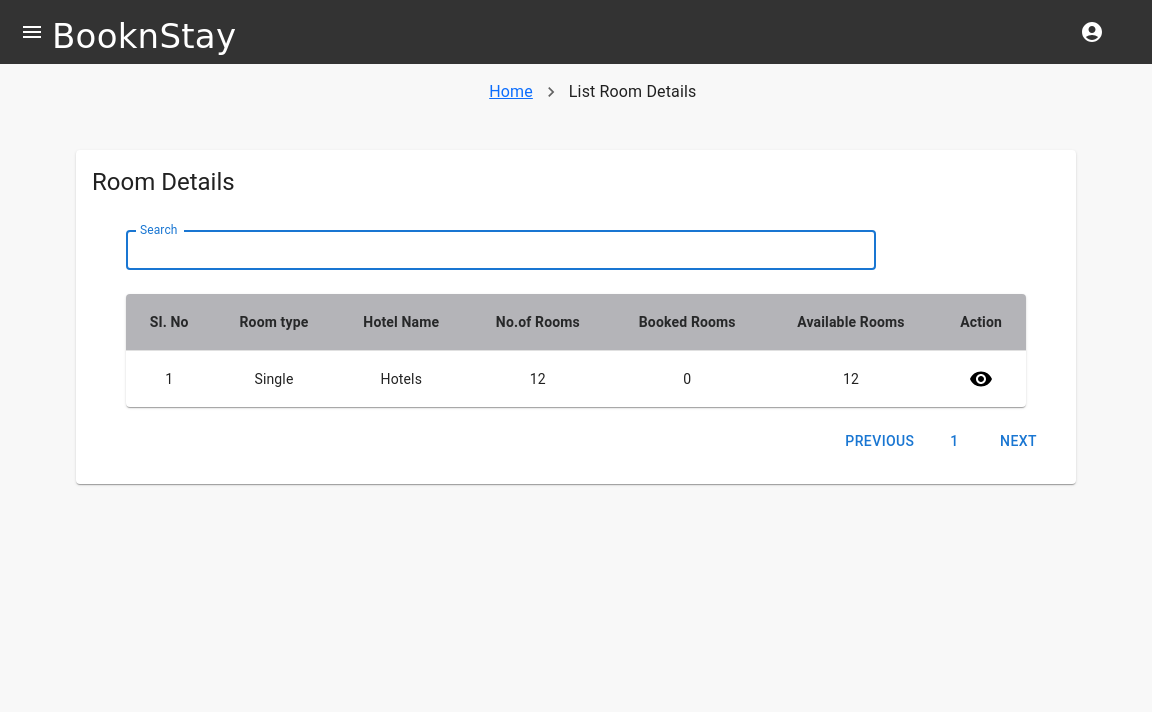
Test: testing view room details components › should handle fetch errors for room details by id
Click the icon with test id "view-more-icon". click: (981, 379)
box: top-left (969, 367), bottom-right (993, 391)
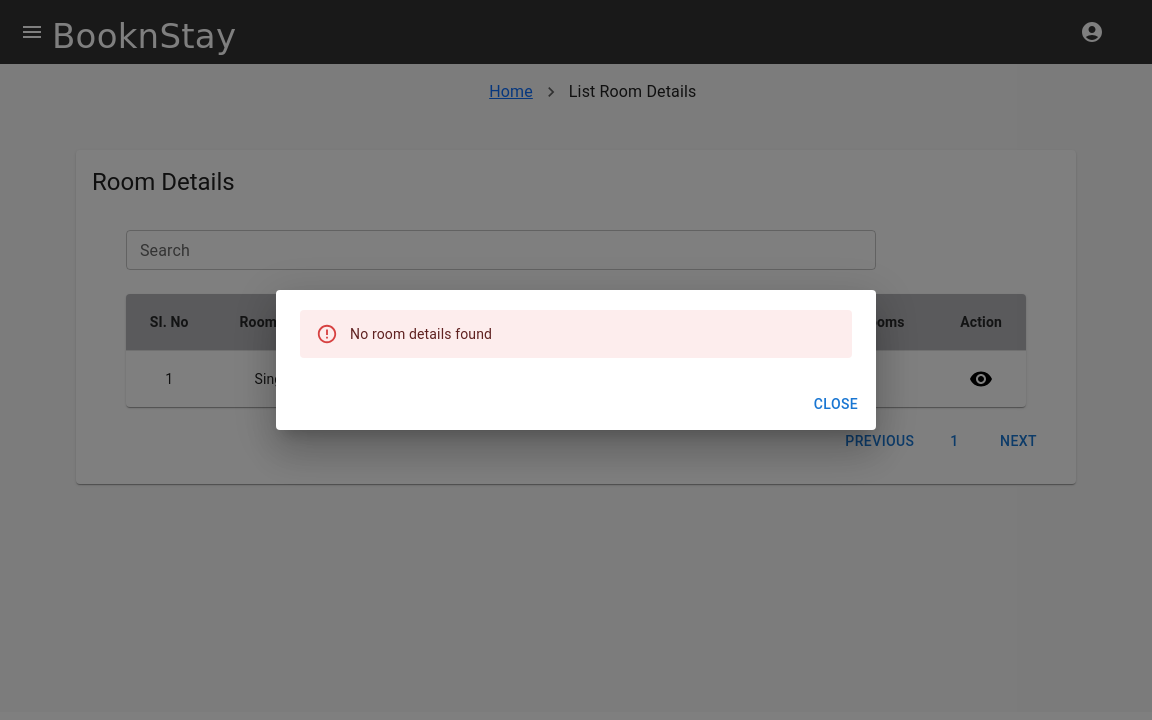
Result: the dialog is shown at top-left (276, 290), bottom-right (876, 430)
Result: the text "No room details found" is shown at top-left (350, 326), bottom-right (492, 342)
